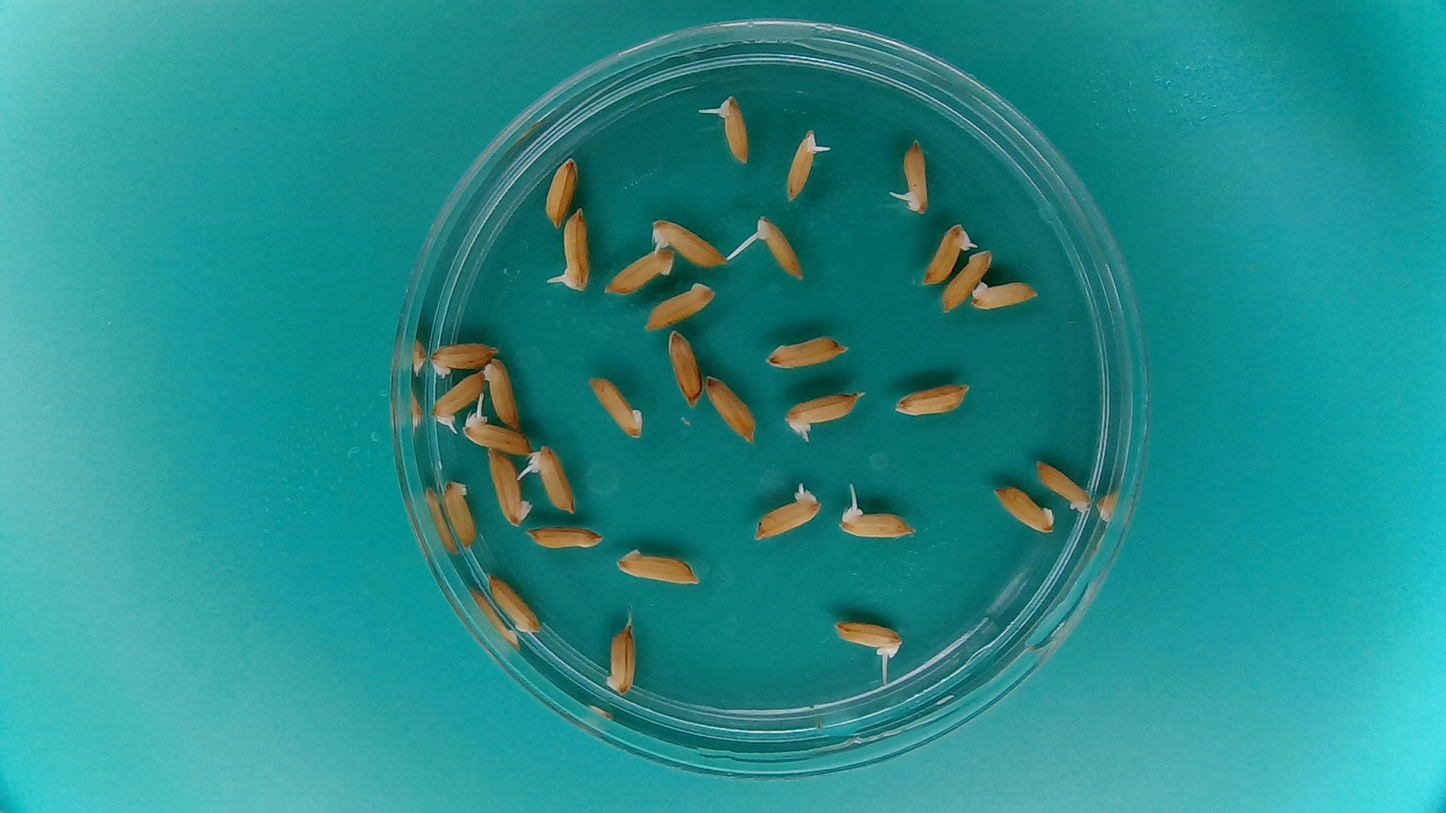no: (639, 278, 720, 333), (584, 373, 646, 443), (701, 373, 758, 446), (484, 570, 544, 635), (484, 448, 532, 528), (1032, 457, 1094, 518), (941, 245, 995, 314), (987, 483, 1057, 536), (601, 245, 676, 294), (763, 330, 850, 372), (663, 327, 704, 410), (615, 547, 700, 587), (480, 354, 523, 431), (599, 618, 640, 698), (892, 379, 973, 419), (542, 153, 578, 230), (441, 477, 477, 550), (968, 278, 1042, 313), (429, 340, 499, 376), (524, 522, 606, 552)
yes: (922, 216, 990, 288), (750, 480, 825, 543), (650, 219, 727, 271), (753, 215, 807, 285), (528, 445, 580, 517), (783, 386, 857, 435), (429, 370, 487, 431), (555, 209, 593, 292), (834, 505, 914, 543), (784, 128, 821, 203), (459, 416, 532, 452), (896, 139, 932, 212), (832, 620, 902, 657), (718, 96, 752, 161)
